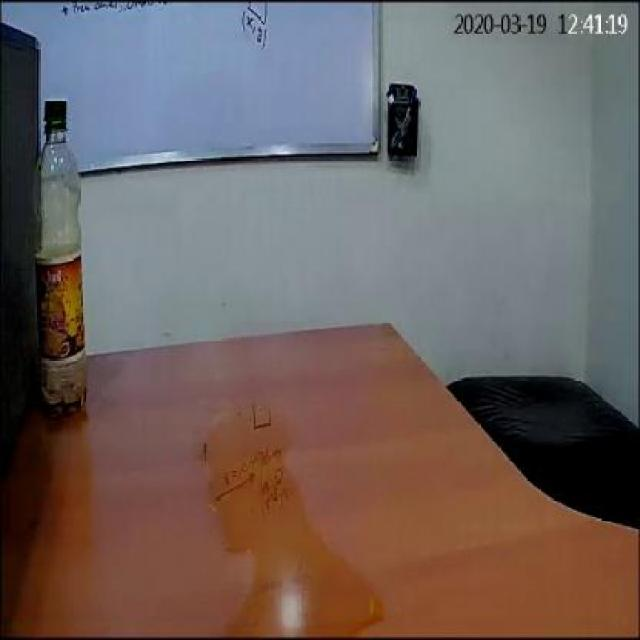spill: (199, 399, 387, 633)
